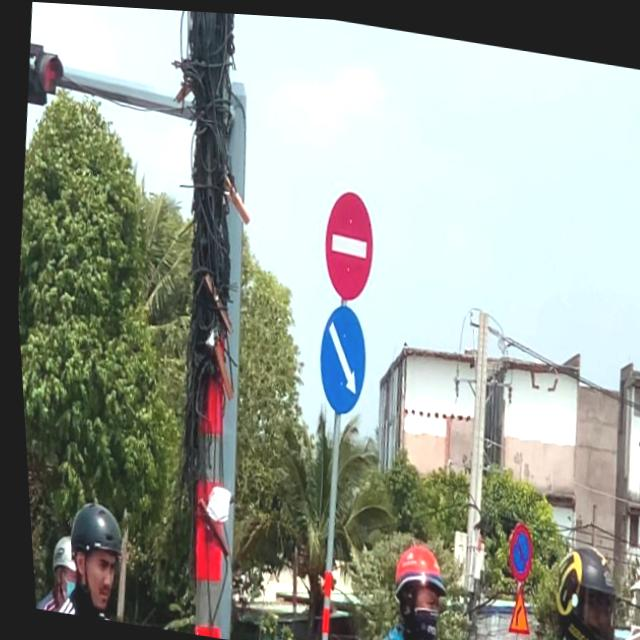Cam di nguoc chieu: (310, 176, 381, 306)
Cam do xe: (498, 517, 530, 580)
Vong chuong ngai vat sang phai: (303, 292, 373, 425)
cho ngoat nguy hiem vong ben phai: (496, 576, 528, 634)
